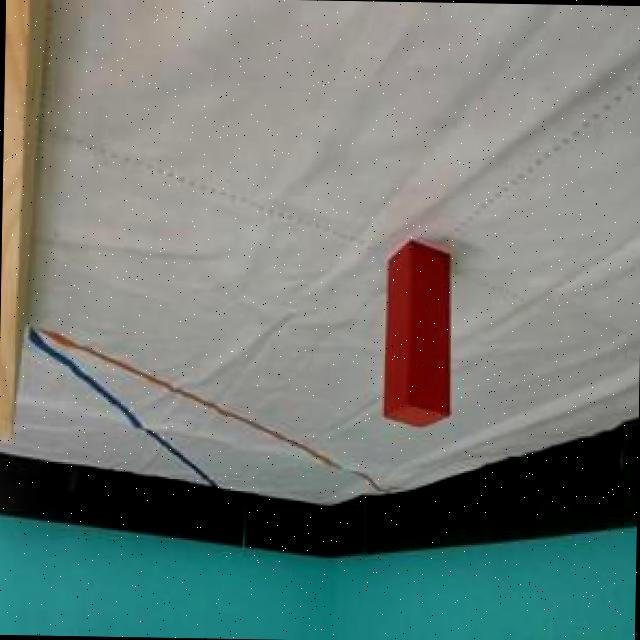redbox: (381, 239, 452, 432)
